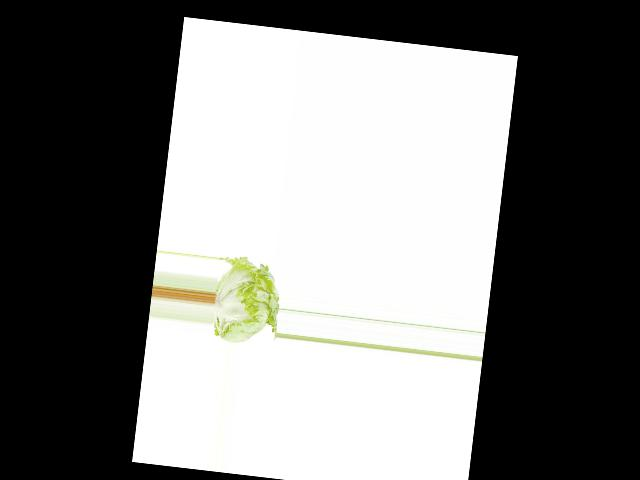lettuce: (209, 250, 284, 349)
